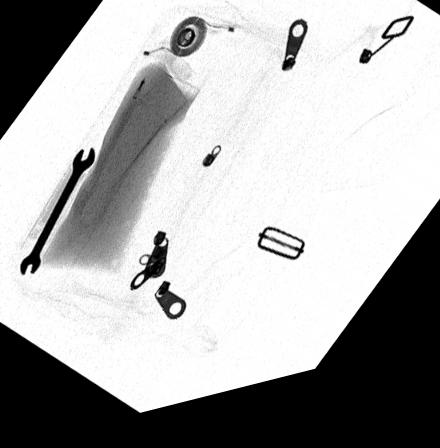Wrench: (17, 151, 96, 277)
